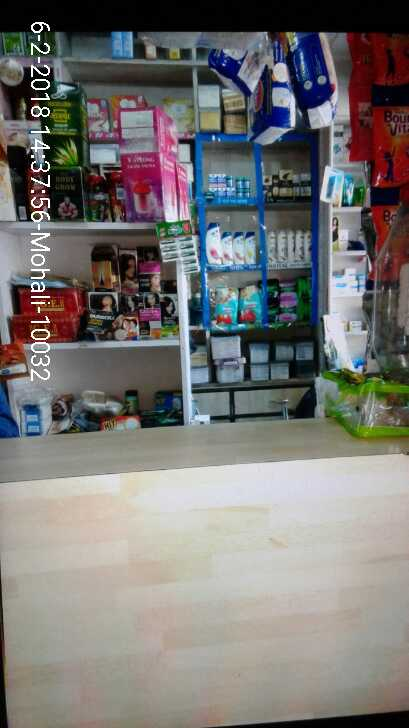beauty: (202, 217, 260, 268), (258, 166, 316, 206), (266, 230, 314, 264)
pharmacy: (204, 284, 260, 329), (207, 162, 255, 203), (271, 275, 311, 324)
